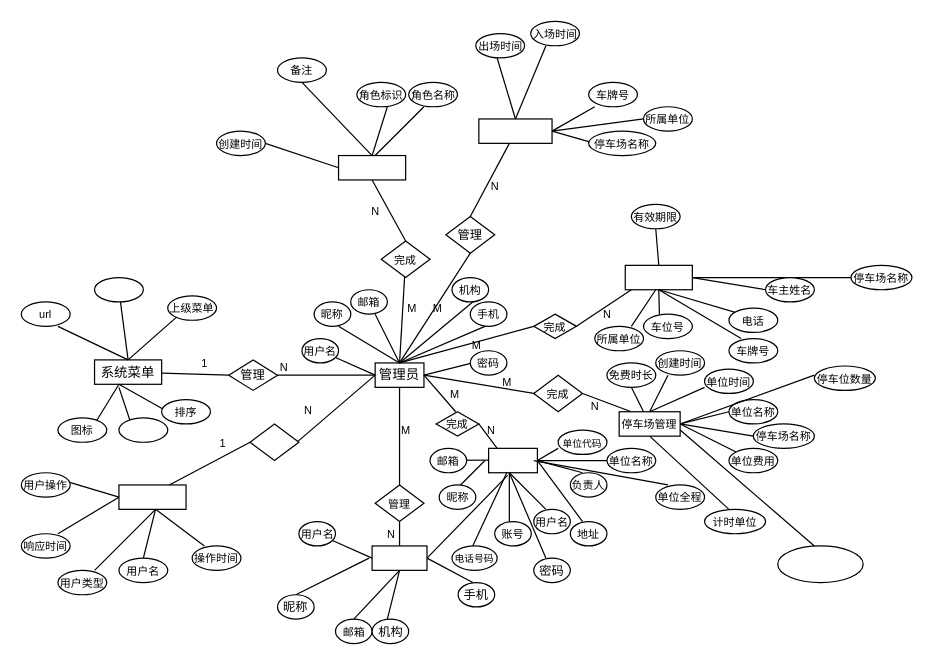
Image size: 933x665. Some labels were removed from this diagram. The centre of each missing label's shape, as x and y in pixels:
停车记录: (515,130)
普通用户: (399,557)
最大就收费金额: (820,564)
权限: (143,429)
查看: (274,442)
系统监控: (152,496)
菜单名称: (118,289)
角色管理: (371,167)
账号管理: (512,460)
车辆管理: (658,277)
